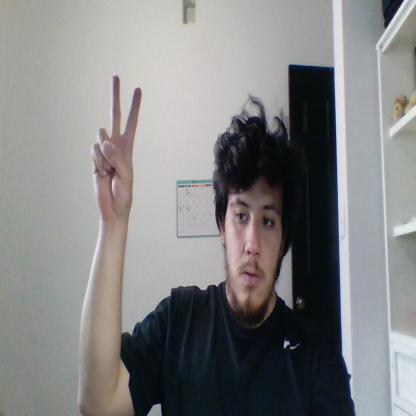V: (91, 75, 142, 218)
